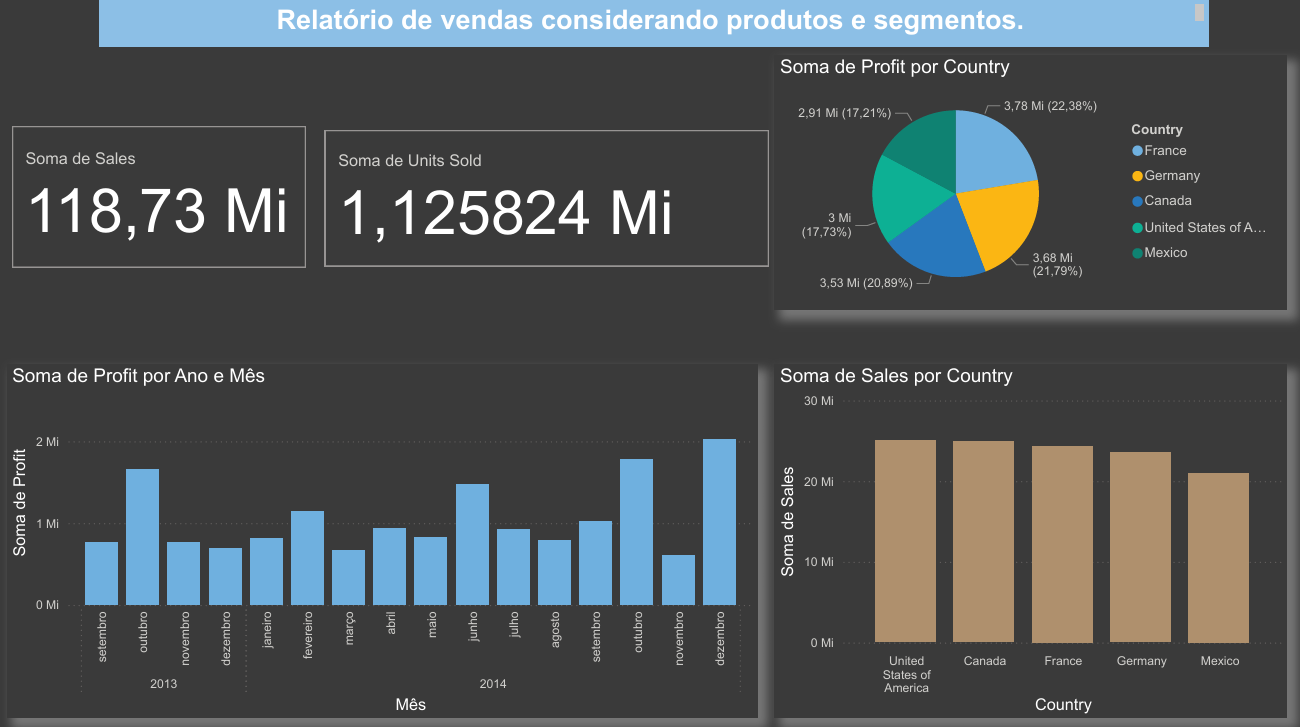

What the dashboard file says about the page in this screenshot:
{"tool":"powerbi","page":{"name":"Página 2","canvas":[1280,720],"ordinal":1},"visuals":[{"type":"textbox","box":[98.1,0,1092.3,47.4],"z":0},{"type":"cardVisual","fields":{"Data":["Sum(financials.Sales)"]},"box":[6.8,119.6,299.6,149.8],"z":1000},{"type":"cardVisual","fields":{"Data":["Sum(financials.Units Sold)"]},"box":[315.1,124.5,447.4,144.9],"z":2000},{"type":"pieChart","fields":{"Category":["financials.Country"],"Y":["Sum(financials.Profit)"]},"box":[762.6,56.4,504.8,250],"z":3000},{"type":"clusteredColumnChart","fields":{"Category":["financials.Date.Variation.Hierarquia de datas.Ano","financials.Date.Variation.Hierarquia de datas.Mês"],"Y":["Sum(financials.Profit)"]},"box":[7.3,360,739,348.2],"z":4000},{"type":"clusteredColumnChart","fields":{"Category":["financials.Country"],"Y":["Sum(financials.Sales)"]},"box":[762.6,360,505.1,348.2],"z":5000}]}

Visuals, with their boxes in screenshot pixels (x1, y1, x2, y2), scaled from the page's 1280x720 canvas onto the 1300x727 screenshot:
textbox: <box>100,0,1209,48</box>
cardVisual - Sum(financials.Sales): <box>7,121,311,272</box>
cardVisual - Sum(financials.Units Sold): <box>320,126,774,272</box>
pieChart - financials.Country x Sum(financials.Profit): <box>775,57,1287,309</box>
clusteredColumnChart - financials.Date.Variation.Hierarquia de datas.Ano x financials.Date.Variation.Hierarquia de datas.Mês: <box>7,364,758,715</box>
clusteredColumnChart - financials.Country x Sum(financials.Sales): <box>775,364,1288,715</box>
